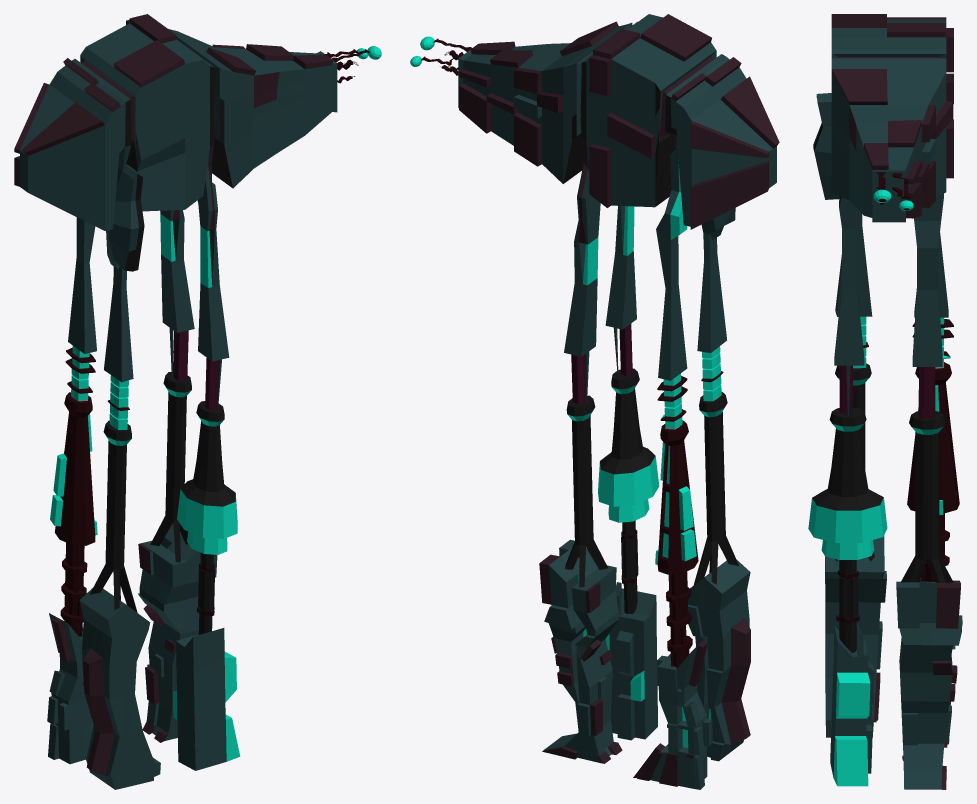
File: monster.FBX
The picture shows the model from 3 angles, left to right: view 1: azimuth 30°, elevation 25°; view 2: azimuth 150°, elevation 25°; view 3: azimuth 270°, elevation 25°; orthographic projection. The views are drawn at different scales.
Parts seen in each view (by area): view 1: Box001.002, Group001; view 2: Box001.002, Group001; view 3: Group001, Box001.002.
Boxes of the visible parts, x1=… form: Box001.002: x1=14, y1=14, x2=381, y2=404; Group001: x1=47, y1=330, x2=240, y2=789; Box001.002: x1=410, y1=14, x2=779, y2=402; Group001: x1=539, y1=323, x2=750, y2=789; Group001: x1=808, y1=316, x2=962, y2=789; Box001.002: x1=813, y1=14, x2=953, y2=415.
Bounding box in the file's own units: 212 × 408 × 77.44.
